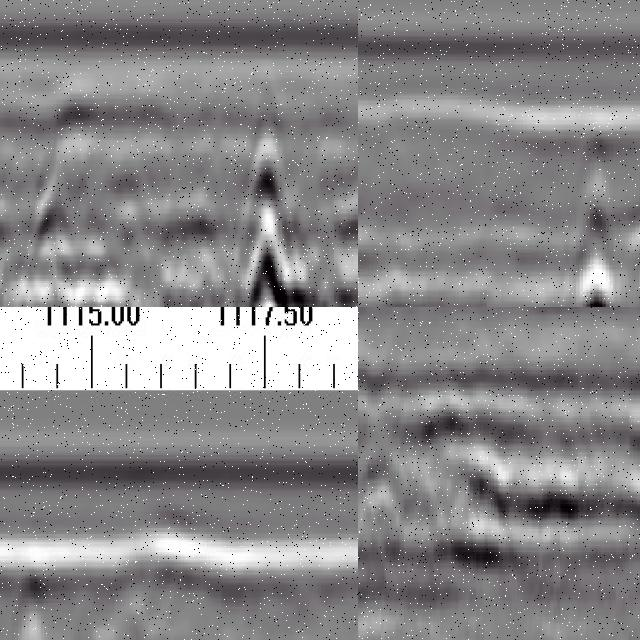crack: (239, 110, 296, 308), (573, 126, 613, 308)
loose: (359, 394, 562, 578)
